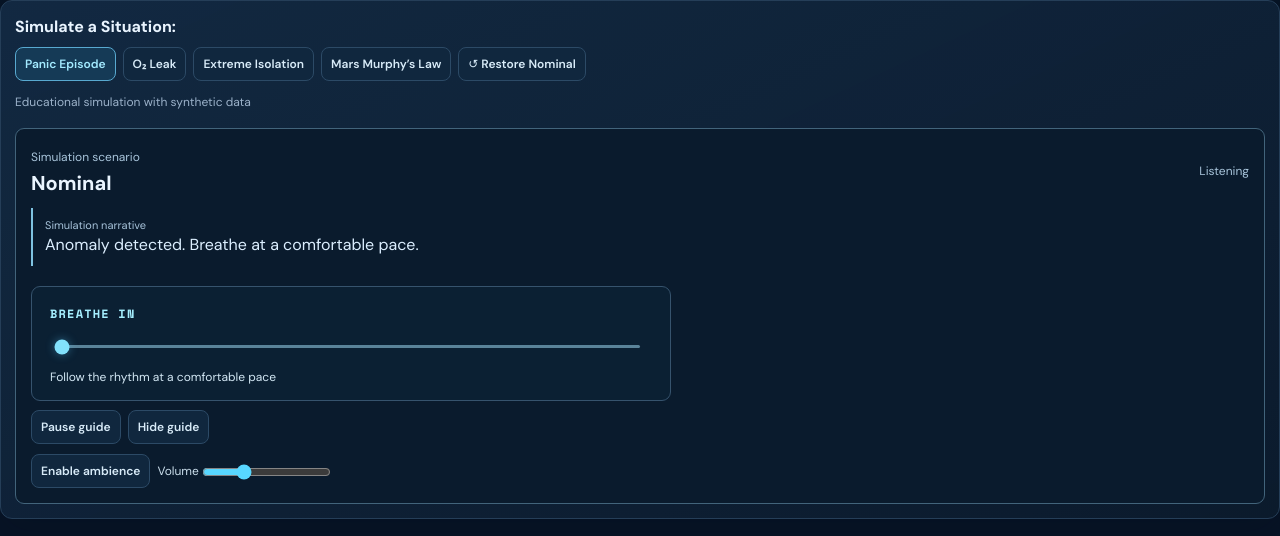
keeps the Bio-Sync guide pausable and dismissible and removes it on nominal
Later steps or results of the test are not shown.
Expected: the text "Follow the rhythm at a comfortable pace" is shown, x1=50 y1=369 x2=276 y2=385
Click the button "Pause guide" at (76, 427), box x1=31 y1=410 x2=121 y2=444
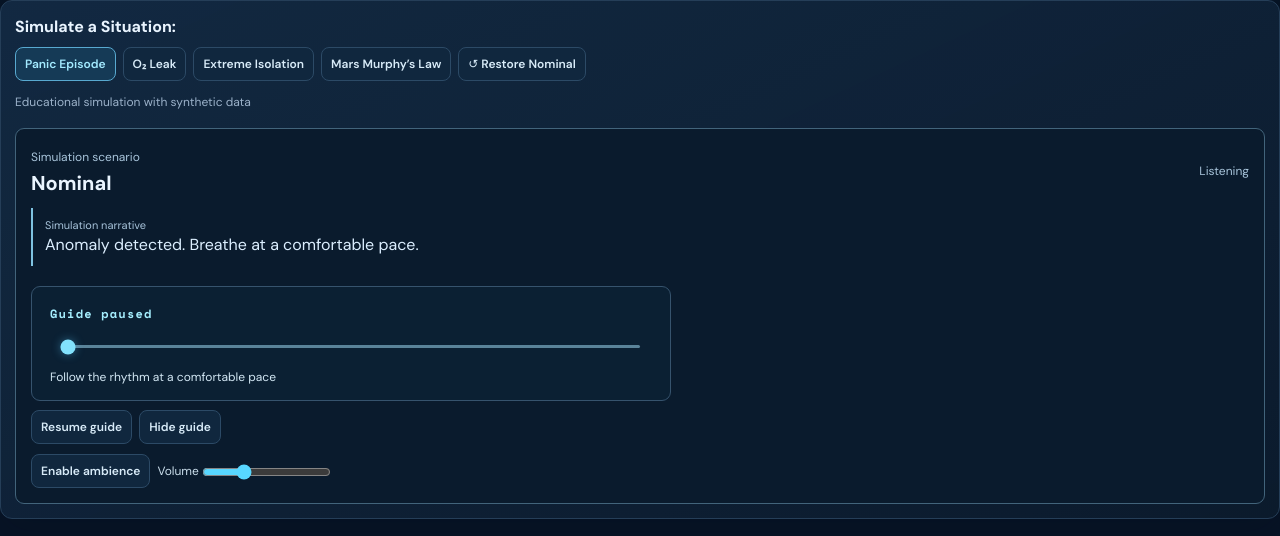
Now the text "Guide paused" is shown, box x1=50 y1=305 x2=152 y2=322
Click the button "Resume guide" at (82, 427), box x1=31 y1=410 x2=132 y2=444
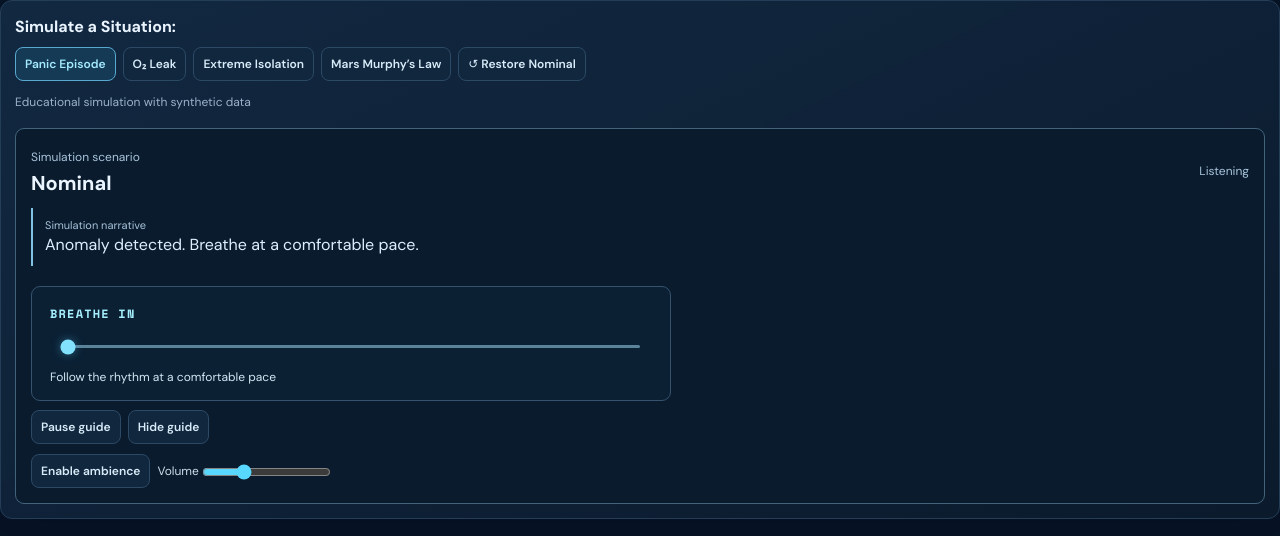
Click the button "Hide guide" at (168, 427), box x1=128 y1=410 x2=209 y2=444
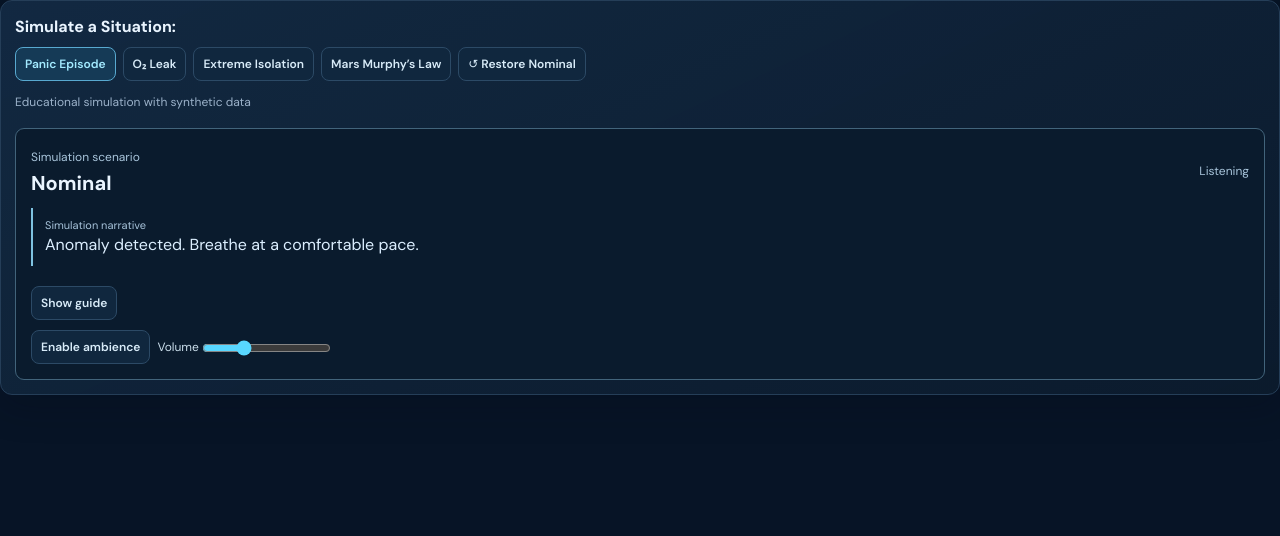
Now the text "Follow the rhythm at a comfortable pace" is gone
